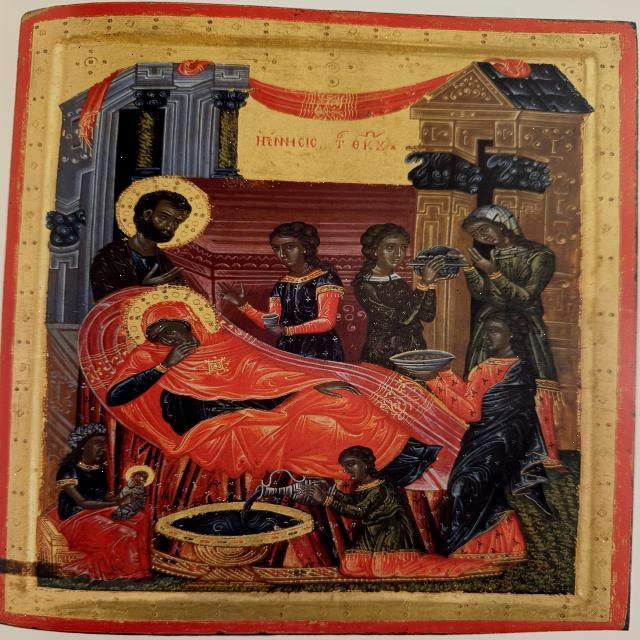aura: (113, 174, 216, 252), (126, 284, 222, 346), (125, 463, 159, 487)
basin: (133, 499, 323, 591)
saint: (80, 288, 482, 490), (73, 169, 218, 288)
